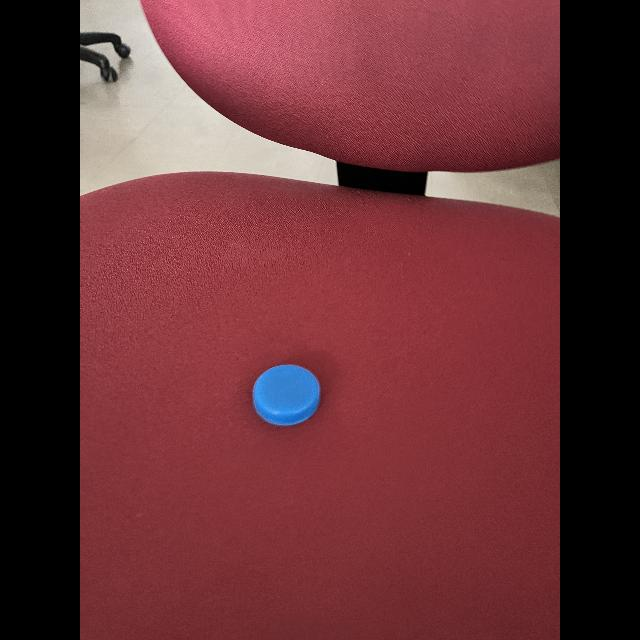plastic_bottle_cap: (252, 360, 321, 430)
